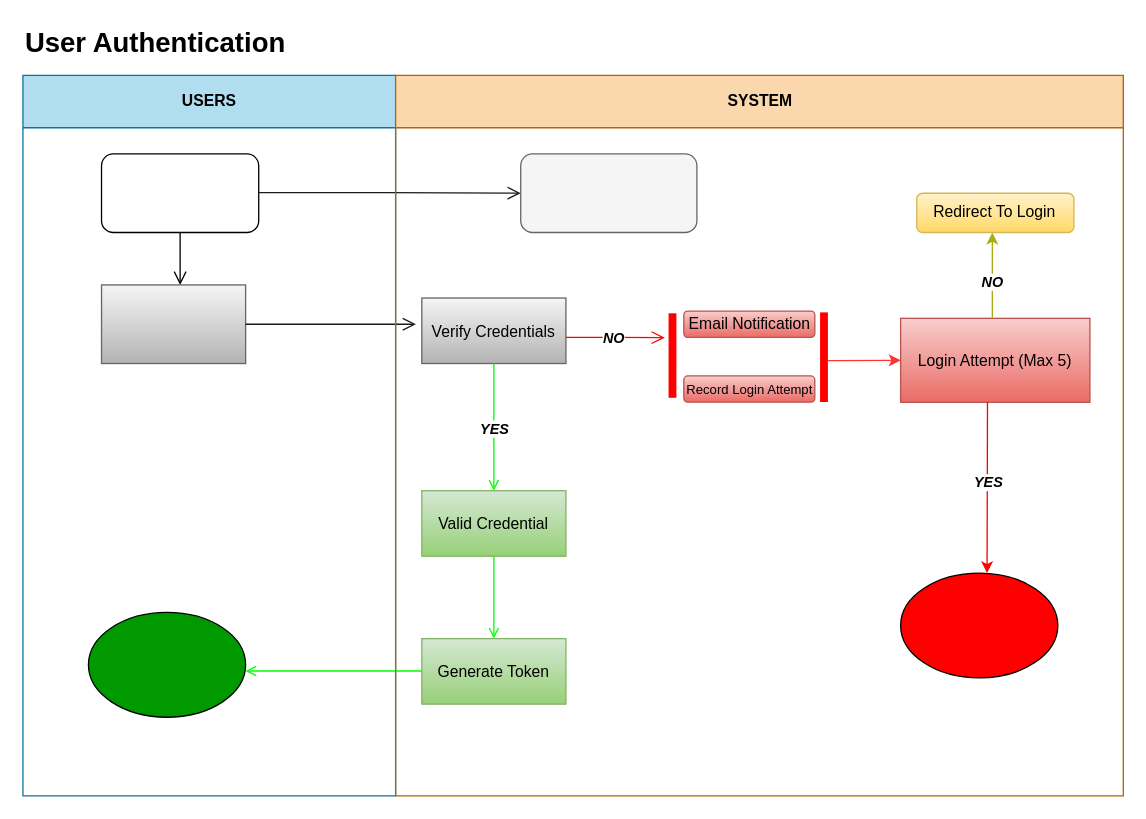
Image size: 1146x819. Some labels were removed from this diagram. The shapes that lost their labels are listed below. From the top down, each one's centre as x and y in pixels, then its label:
the point at 179,193: Login Page
the point at 608,193: Redirect to Register (if user not registered)
the point at 173,324: Enter Credentials
the point at 978,625: Account Locked
the point at 166,664: Logged In
